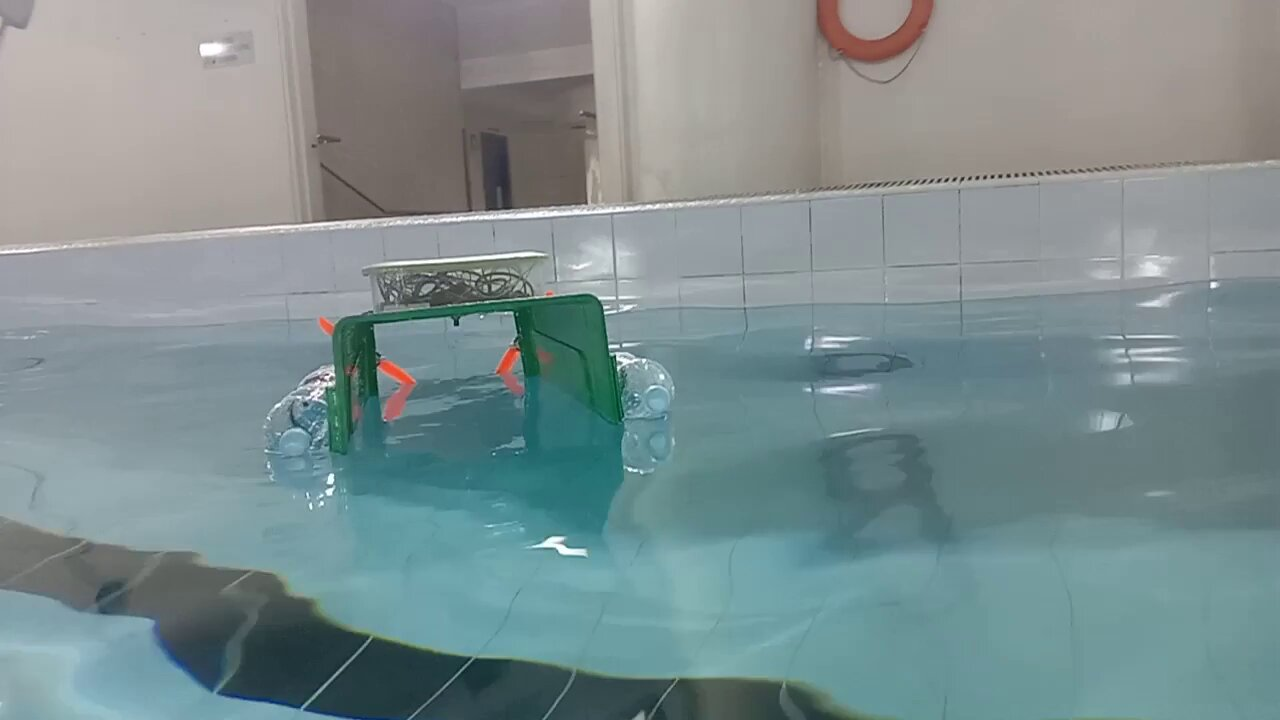drone: (255, 246, 678, 487)
